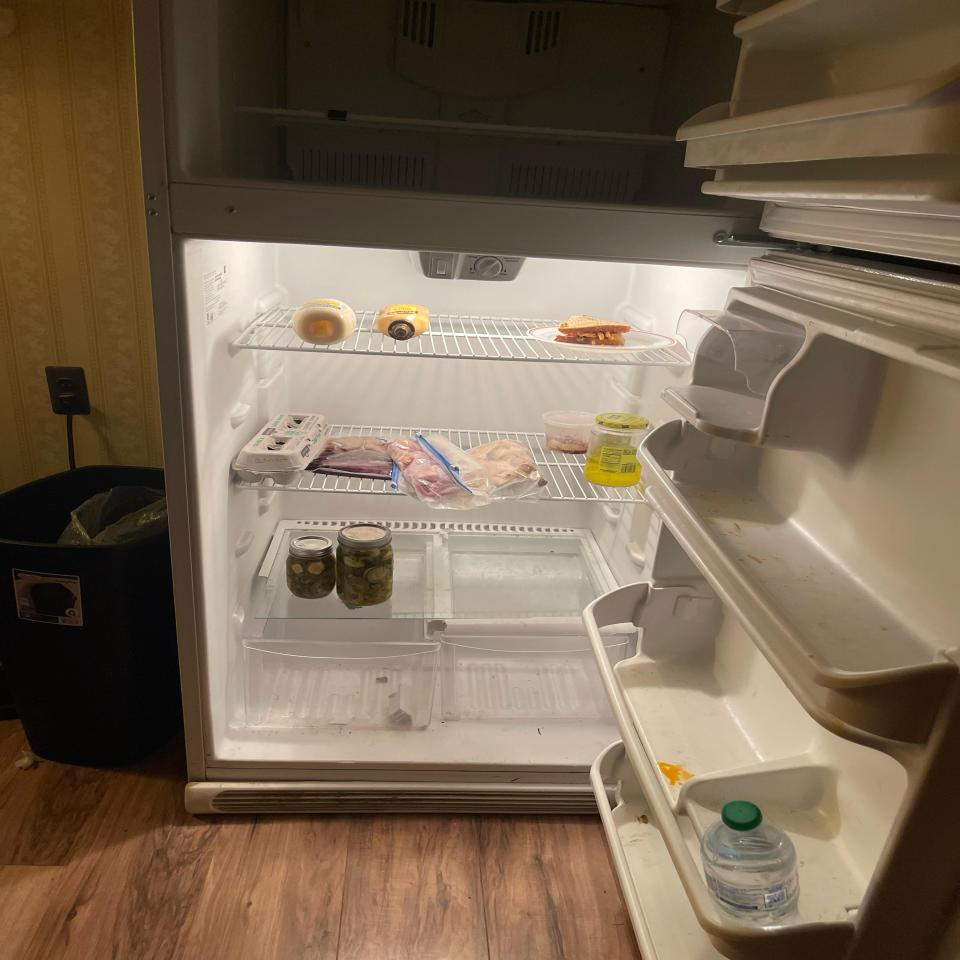Huevos: (232, 411, 328, 485)
mayonnaise: (291, 299, 357, 345)
